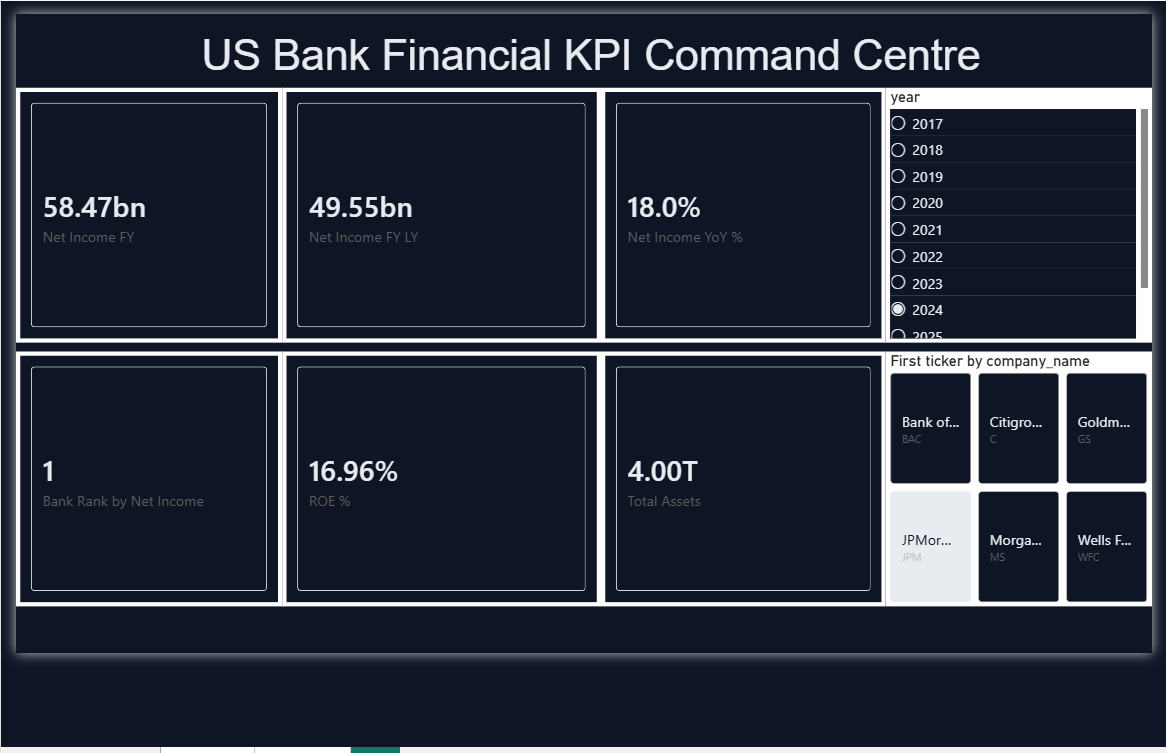

What the dashboard file says about the page in this screenshot:
{"tool":"powerbi","page":{"name":"Page 1","canvas":[1280,720],"ordinal":0},"visuals":[{"type":"textbox","box":[152.1,14.1,991.5,69],"z":0},{"type":"listSlicer","fields":{"Values":["dim_date.year"]},"box":[980.3,83.1,300,287.3],"z":1000},{"type":"cardVisual","fields":{"Data":["fact_financials.Net Income FY"]},"box":[0,83.1,300,287.3],"z":2000},{"type":"cardVisual","fields":{"Data":["fact_financials.Net Income FY LY"]},"box":[300,83.1,359.2,287.3],"z":3000},{"type":"cardVisual","fields":{"Data":["fact_financials.Net Income YoY %"]},"box":[659.2,83.1,321.1,287.3],"z":4000},{"type":"cardVisual","fields":{"Data":["fact_financials.Bank Rank by Net Income"]},"box":[0,380.4,300,287.3],"z":5000},{"type":"cardVisual","fields":{"Data":["fact_financials.ROE %"]},"box":[300,380.4,359.2,287.3],"z":6000},{"type":"cardVisual","fields":{"Data":["fact_financials.Total Assets"]},"box":[659.2,380.4,321.1,287.3],"z":7000},{"type":"advancedSlicerVisual","fields":{"Values":["dim_company.company_name"],"Label":["Min(dim_company.ticker)"]},"box":[980.3,380.4,299.7,287.3],"z":8000}]}

Visuals, with their boxes in screenshot pixels (x1, y1, x2, y2):
textbox: [x1=143, y1=22, x2=1033, y2=84]
listSlicer - dim_date.year: [x1=887, y1=84, x2=1156, y2=342]
cardVisual - fact_financials.Net Income FY: [x1=6, y1=84, x2=276, y2=342]
cardVisual - fact_financials.Net Income FY LY: [x1=276, y1=84, x2=598, y2=342]
cardVisual - fact_financials.Net Income YoY %: [x1=598, y1=84, x2=887, y2=342]
cardVisual - fact_financials.Bank Rank by Net Income: [x1=6, y1=351, x2=276, y2=609]
cardVisual - fact_financials.ROE %: [x1=276, y1=351, x2=598, y2=609]
cardVisual - fact_financials.Total Assets: [x1=598, y1=351, x2=887, y2=609]
advancedSlicerVisual - dim_company.company_name x Min(dim_company.ticker): [x1=887, y1=351, x2=1156, y2=609]
